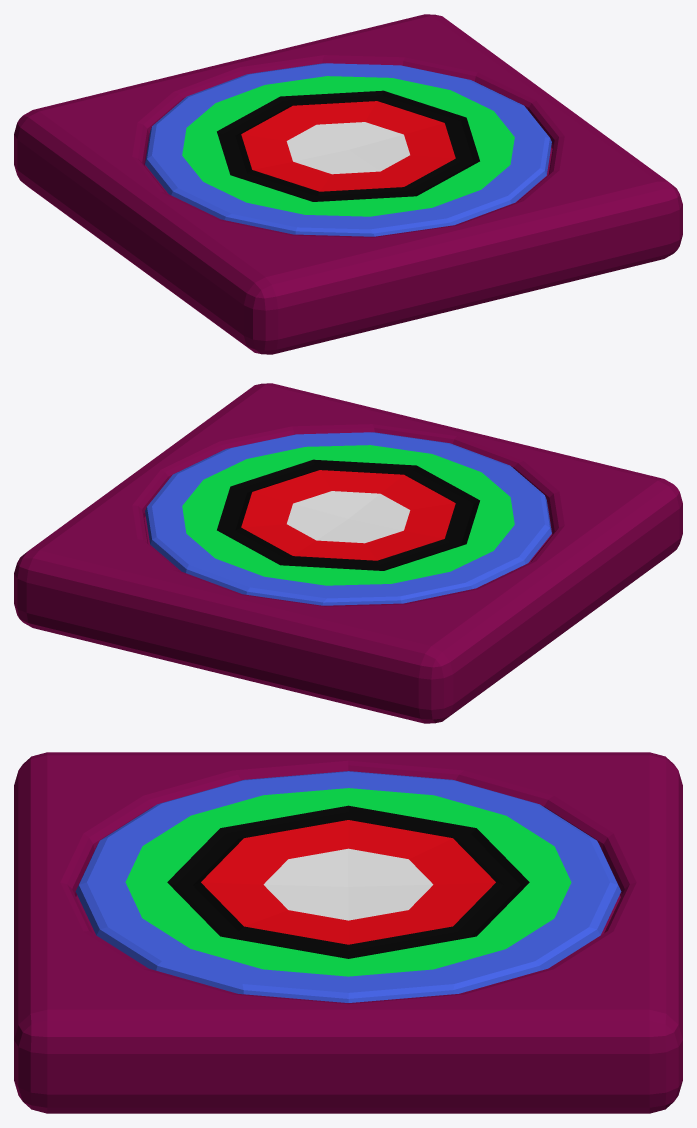
Rendered from trampline.fbx.
The picture shows the model from 3 angles, top to bottom: view 1: azimuth 30°, elevation 25°; view 2: azimuth 150°, elevation 25°; view 3: azimuth 270°, elevation 25°; orthographic projection. The views are drawn at different scales.
Parts seen in each view (by area): view 1: Plane, Trampline; view 2: Plane, Trampline; view 3: Plane, Trampline.
Part boxes in pixels (bbox=[...]): Plane: bbox=[14, 14, 682, 354]; Trampline: bbox=[145, 63, 551, 236]; Plane: bbox=[14, 383, 682, 723]; Trampline: bbox=[145, 432, 551, 605]; Plane: bbox=[14, 752, 682, 1113]; Trampline: bbox=[75, 771, 621, 1002].
Bounding box in the file's own units: 300 × 50.06 × 300.
